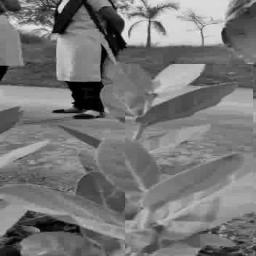Calotropis: (114, 64, 254, 253), (0, 98, 126, 254)
